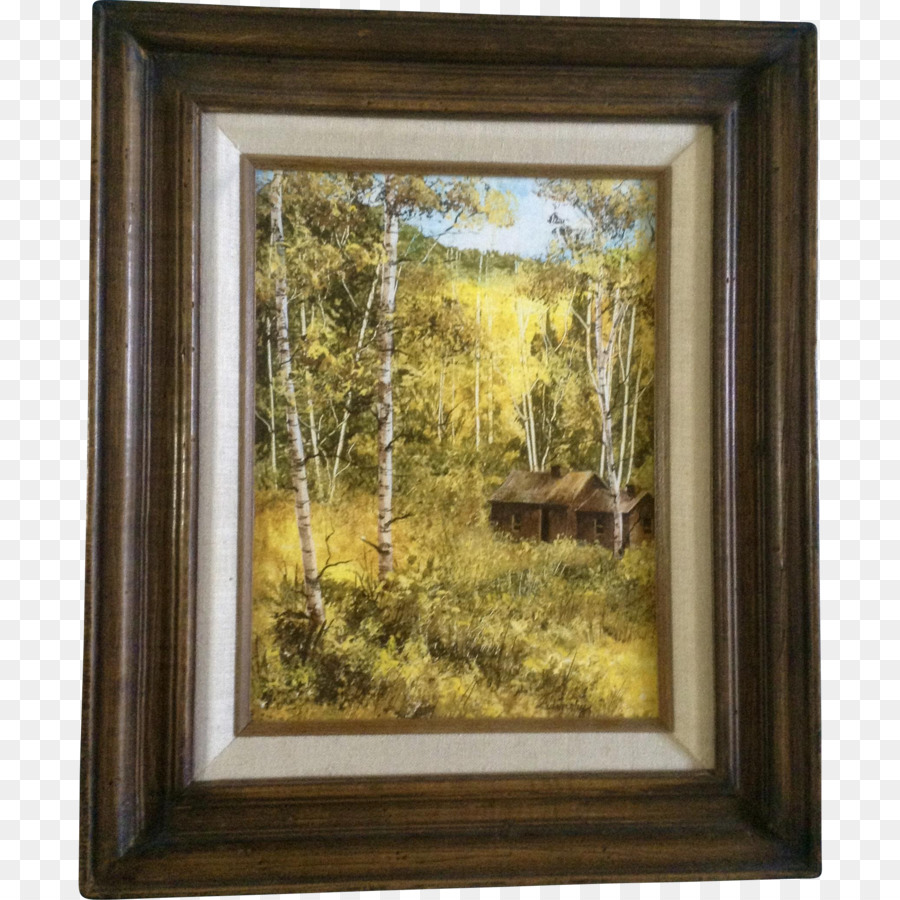lukisan: (82, 16, 839, 885)
